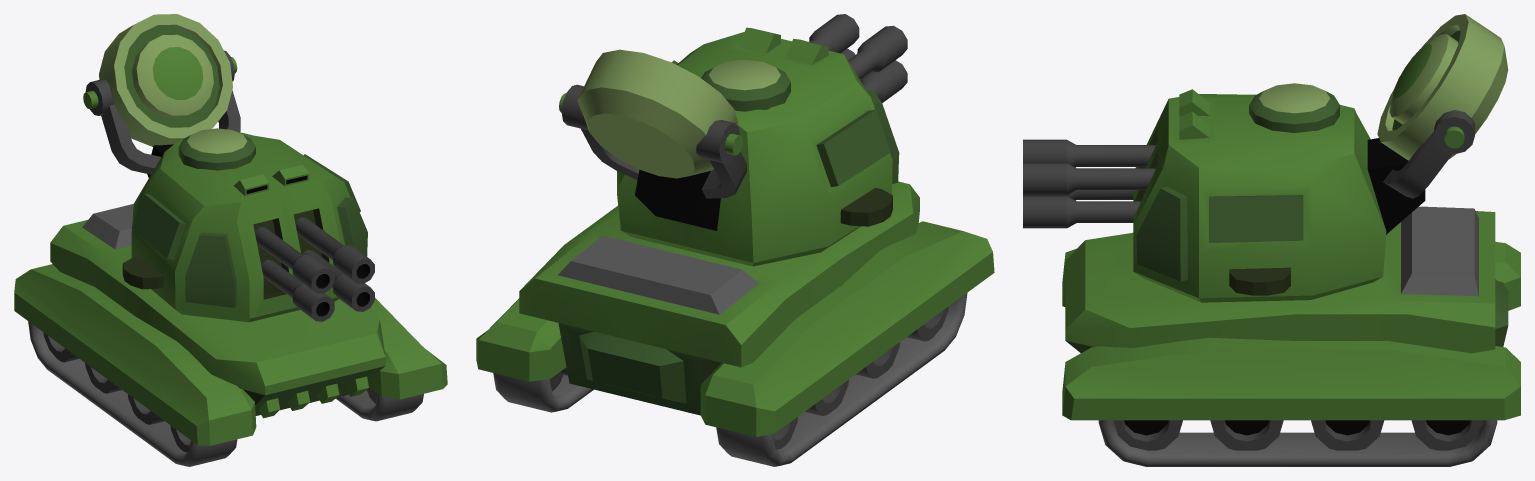
The model's file is Tank 7.fbx.
3 renders of one model, left to right at view 1: azimuth 30°, elevation 25°; view 2: azimuth 150°, elevation 25°; view 3: azimuth 270°, elevation 25°, orthographic. The views are drawn at different scales.
Visible parts, largest first — view 1: Cube.446, Cube.444, Cube.445, Cylinder.490, Cylinder.492, Circle.022, Cylinder.489, Plane.074, Cube.447, Cylinder.491, Cylinder.543, Cylinder.542; view 2: Cube.444, Cube.446, Cube.445, Cylinder.490, Circle.022, Cylinder.492, Cylinder.489, Cylinder.491, Plane.074, Cube.447, Cylinder.543, Cylinder.542 (+1 smaller); view 3: Cube.446, Cube.445, Cube.444, Cylinder.490, Cylinder.492, Circle.022, Cylinder.489, Plane.074, Cylinder.546, Cylinder.547, Cylinder.545, Cylinder.548 (+2 smaller).
Part boxes in pixels (x1,y1,x2,y2): Cube.446: (131, 129, 367, 322); Cube.444: (50, 204, 385, 418); Cube.445: (14, 264, 447, 445); Cylinder.490: (99, 14, 232, 146); Cylinder.492: (255, 217, 374, 321); Circle.022: (28, 321, 423, 466); Cylinder.489: (178, 128, 255, 170); Plane.074: (101, 90, 240, 174); Cube.447: (122, 256, 163, 289); Cylinder.491: (83, 50, 237, 115); Cylinder.543: (85, 363, 121, 393); Cylinder.542: (127, 394, 164, 424); Cube.444: (519, 181, 919, 415); Cube.446: (617, 27, 899, 266); Cube.445: (476, 221, 994, 436); Cylinder.490: (577, 49, 737, 178); Circle.022: (493, 292, 967, 466); Cylinder.492: (809, 14, 907, 102); Cylinder.489: (701, 60, 790, 111); Cylinder.491: (559, 84, 742, 163); Plane.074: (581, 128, 746, 198); Cube.447: (840, 187, 892, 226); Cylinder.543: (805, 379, 848, 415); Cylinder.542: (856, 342, 899, 378); Cube.446: (1133, 89, 1425, 302); Cube.445: (1062, 241, 1520, 420); Cube.444: (1065, 206, 1508, 353); Cylinder.490: (1377, 14, 1508, 160); Cylinder.492: (1023, 139, 1155, 228); Circle.022: (1098, 420, 1497, 466); Cylinder.489: (1249, 83, 1339, 132); Plane.074: (1383, 132, 1452, 198); Cylinder.546: (1311, 420, 1384, 450); Cylinder.547: (1210, 420, 1283, 450); Cylinder.545: (1411, 420, 1481, 450); Cylinder.548: (1114, 420, 1182, 450).
Size of the model in its own units: 896 by 1107 by 1312.
